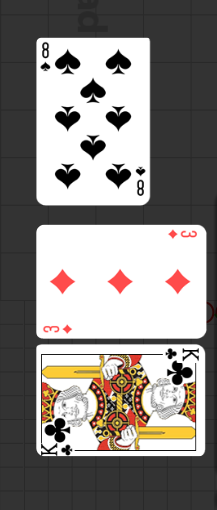8S: (135, 163, 148, 197), (41, 40, 53, 73)
